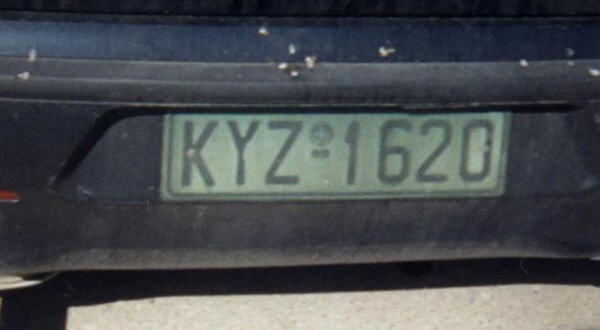license_plate: (162, 108, 511, 202)
